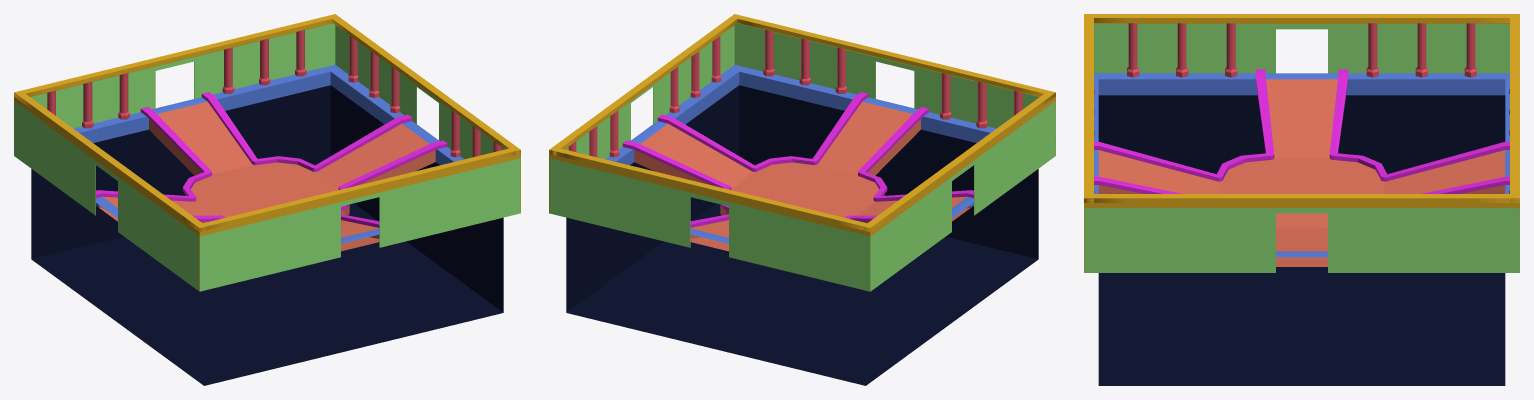
File: CrossDownRoom.fbx
3 views of the same model, side by side, from view 1: azimuth 30°, elevation 25°; view 2: azimuth 150°, elevation 25°; view 3: azimuth 270°, elevation 25° (orthographic). The views are drawn at different scales.
Parts seen in each view (by area): view 1: CrossDownFloorPit, CrossDownFloor, WallSouth, WallNorth, WallWest, WallEast; view 2: CrossDownFloorPit, CrossDownFloor, WallNorth, WallSouth, WallWest, WallEast; view 3: CrossDownFloorPit, CrossDownFloor, WallEast, WallWest, WallSouth, WallNorth.
Boxes of the visible parts, box(x1,y1,x2,y2) form: CrossDownFloorPit: box(31, 85, 503, 385); CrossDownFloor: box(73, 65, 464, 251); WallSouth: box(195, 146, 520, 291); WallNorth: box(17, 14, 337, 128); WallWest: box(14, 90, 206, 291); WallEast: box(328, 14, 520, 213); CrossDownFloorPit: box(566, 85, 1038, 385); CrossDownFloor: box(605, 65, 996, 251); WallNorth: box(549, 147, 871, 291); WallSouth: box(731, 14, 1055, 155); WallWest: box(863, 90, 1055, 291); WallEast: box(549, 14, 740, 213); CrossDownFloorPit: box(1098, 95, 1505, 385); CrossDownFloor: box(1094, 69, 1509, 266); WallEast: box(1084, 194, 1519, 272); WallWest: box(1084, 14, 1519, 77); WallSouth: box(1084, 14, 1094, 272); WallNorth: box(1509, 14, 1519, 272).
Size of the model in its own units: 3003 by 1475 by 3003.
